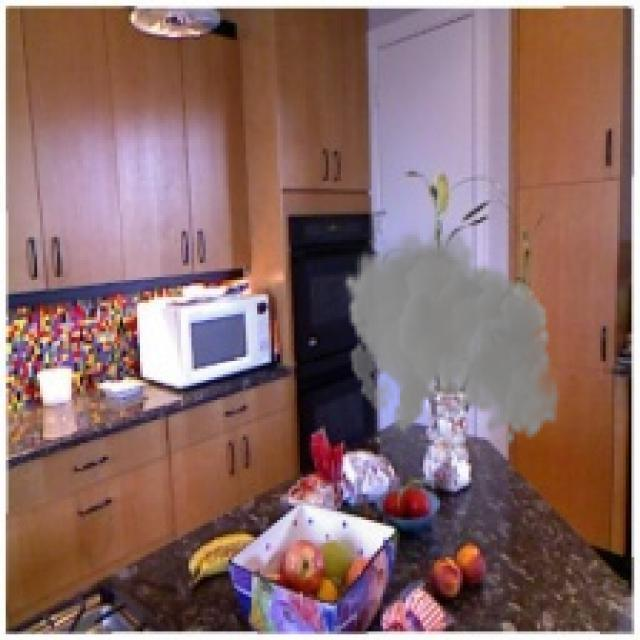Smoke: (343, 220, 560, 446)
